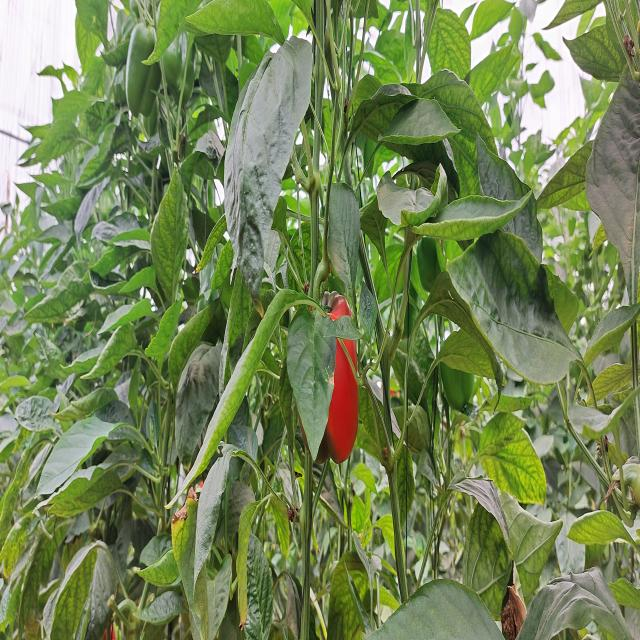BrownishRed--Can-be-Harvested: (290, 288, 359, 474)
